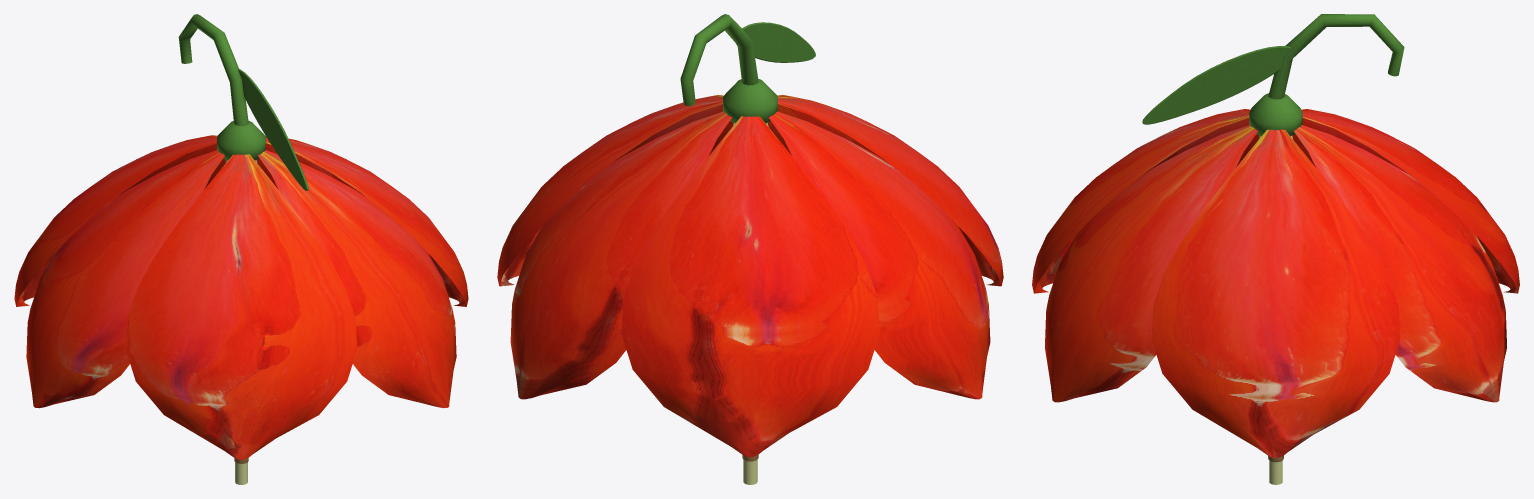
Rendered from glider_tulip.glb.
3 views of the same model, side by side, from view 1: azimuth 30°, elevation 25°; view 2: azimuth 150°, elevation 25°; view 3: azimuth 270°, elevation 25° (orthographic). The views are drawn at different scales.
Visible parts, largest first — view 1: glider_tulip; view 2: glider_tulip; view 3: glider_tulip.
Part boxes in pixels (bbox=[...]): glider_tulip: bbox=[14, 14, 468, 484]; glider_tulip: bbox=[497, 14, 1003, 484]; glider_tulip: bbox=[1032, 14, 1519, 484].
Size of the model in its own units: 1.97 by 1.93 by 1.83.
Materials: 2 (2 with a texture image).
